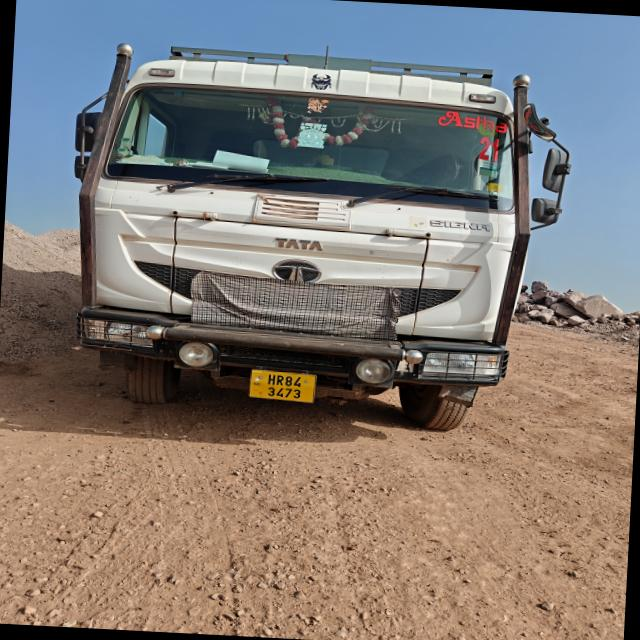license_plate: (249, 371, 316, 403)
